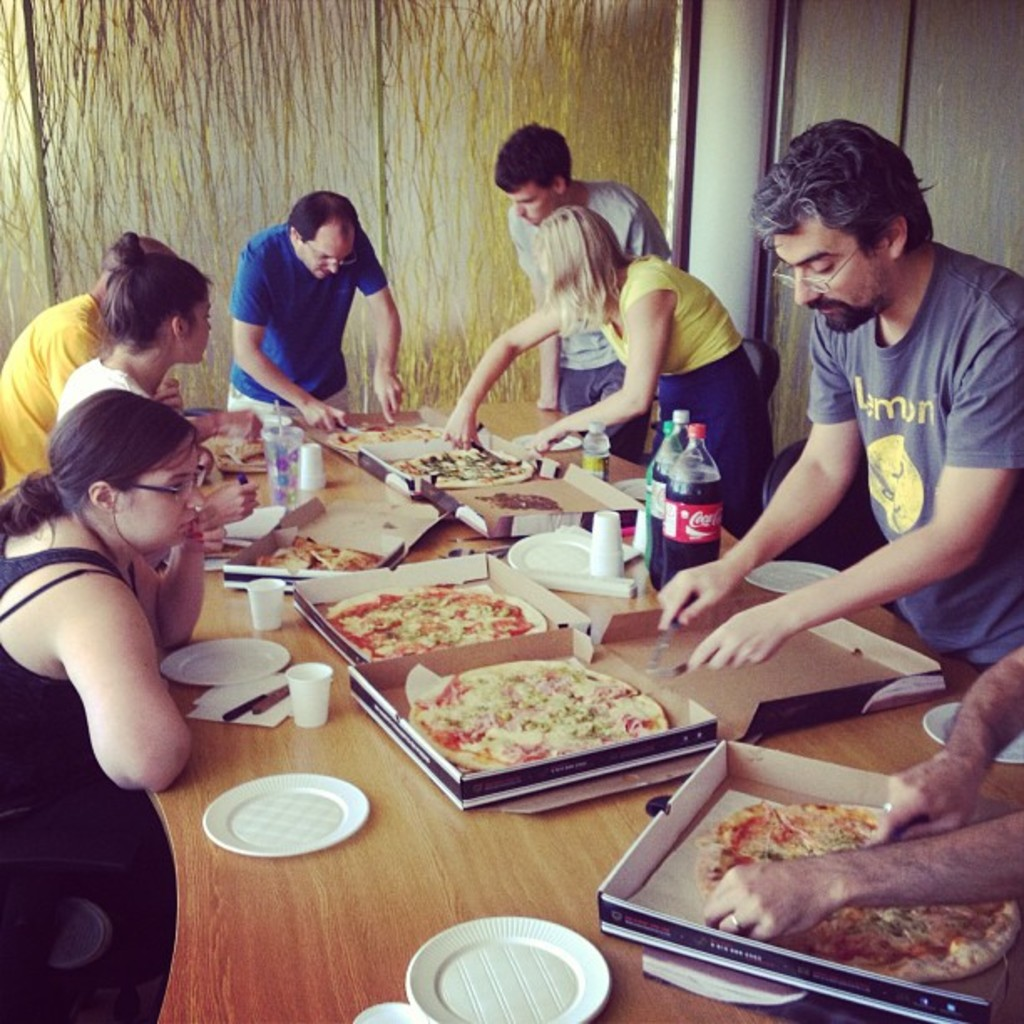Pizza: (697, 801, 1022, 977), (408, 652, 672, 769), (324, 582, 545, 662), (389, 443, 532, 496), (331, 418, 440, 448), (301, 542, 378, 573), (249, 538, 309, 575)
